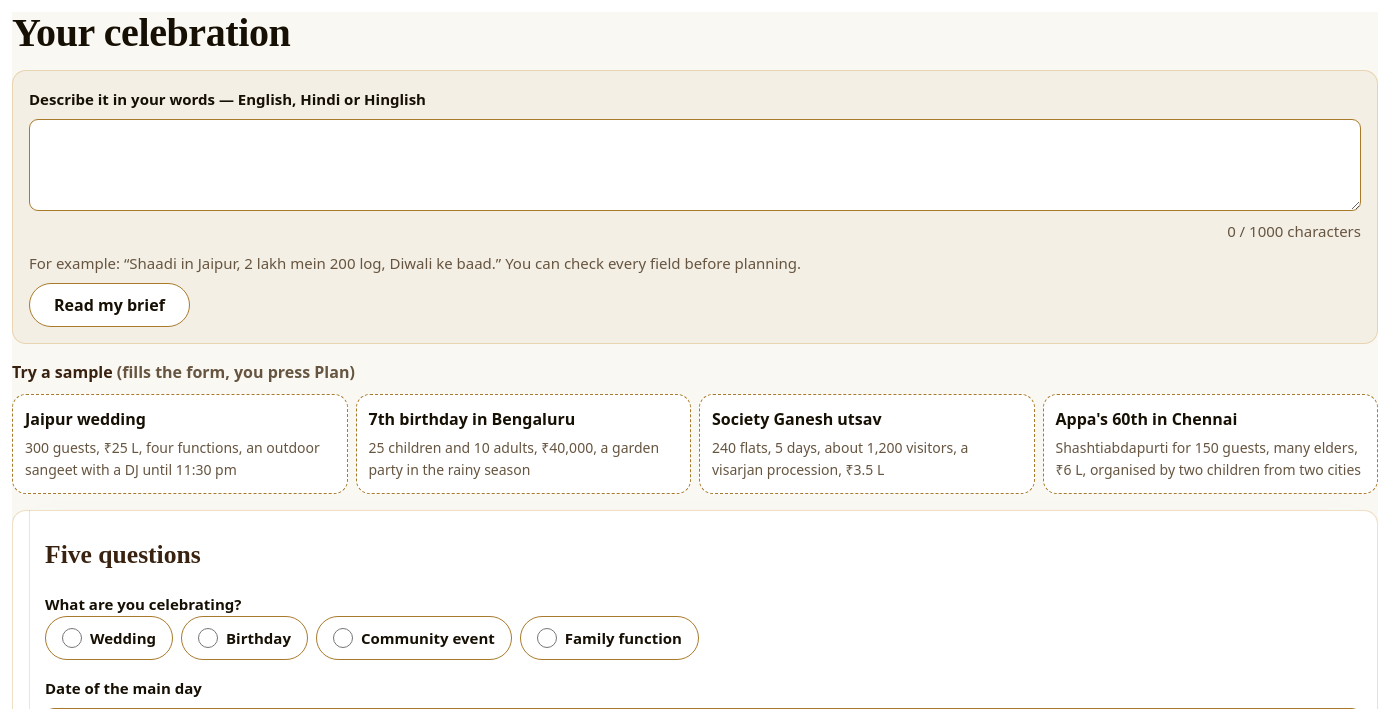
Read my brief › asks for more words instead of sending an empty brief
Click the button "Read my brief": (109, 305) [29, 283, 190, 327]
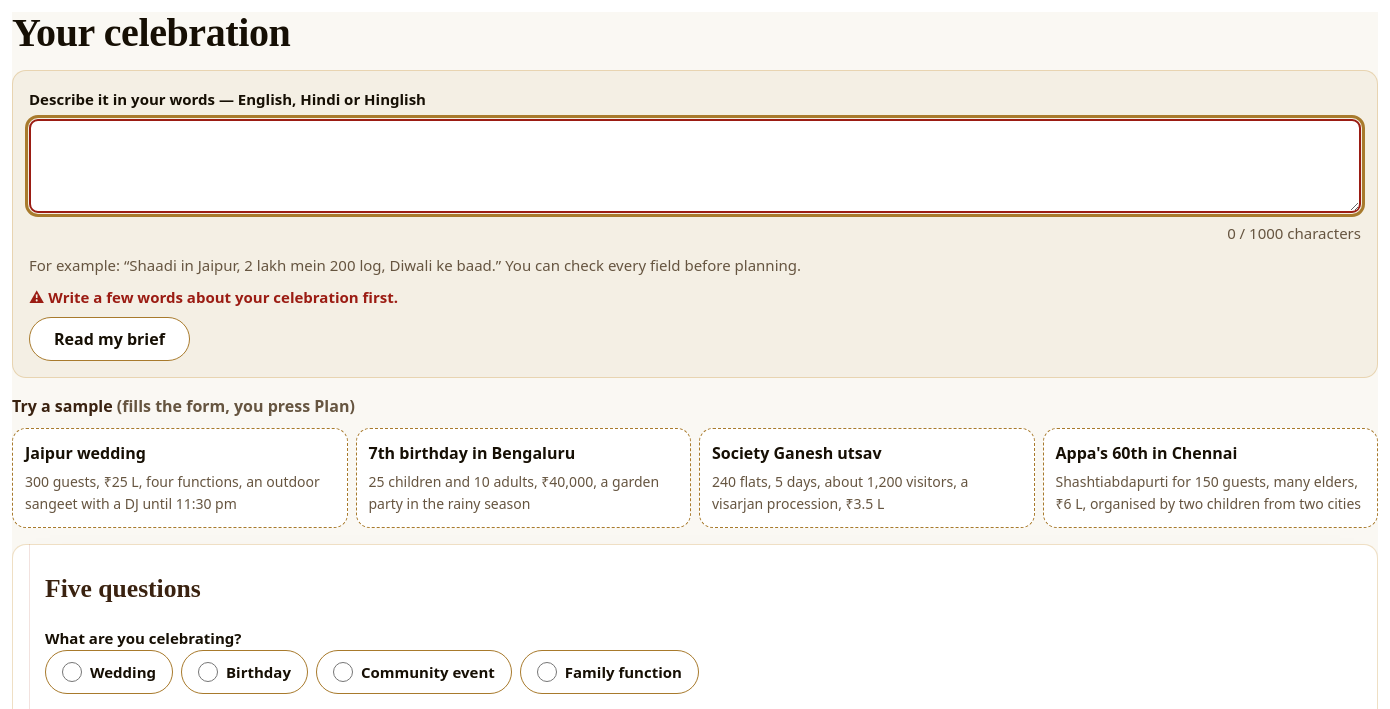
Check: the text "Write a few words about your celebration first." is shown, box [48, 287, 398, 307]
